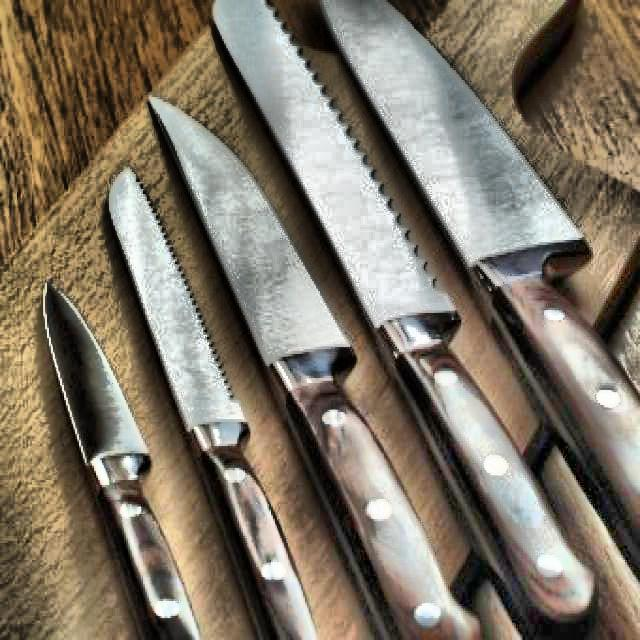knife: (212, 0, 602, 640), (316, 0, 640, 589), (145, 91, 477, 640), (103, 168, 324, 640), (40, 274, 202, 640)
